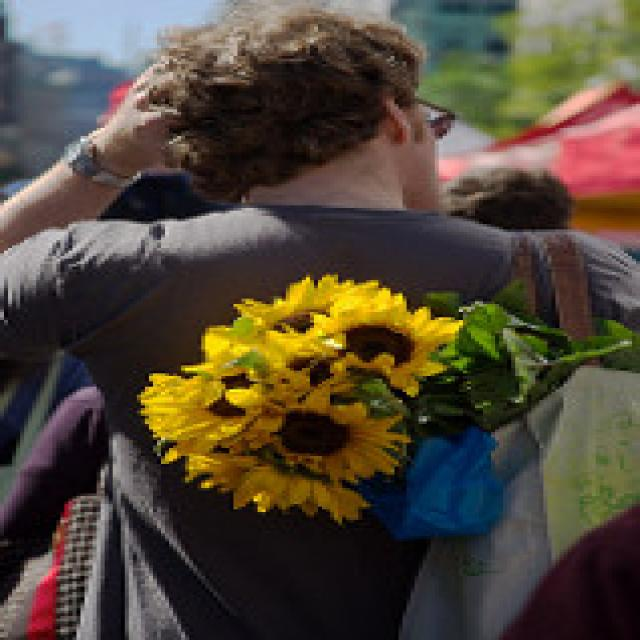sunflower: (300, 286, 473, 398), (232, 388, 424, 484)
